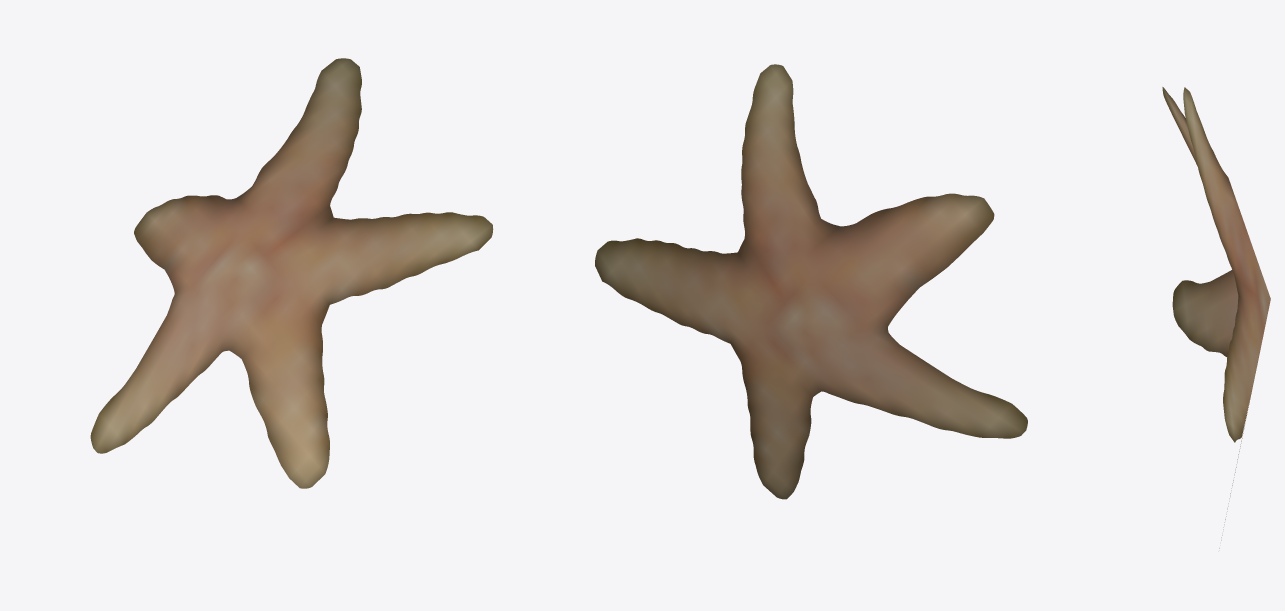
Rendered from SMSH_Starfish_2.FBX.
3 views of the same model, side by side, from view 1: azimuth 30°, elevation 25°; view 2: azimuth 150°, elevation 25°; view 3: azimuth 270°, elevation 25° (orthographic). The views are drawn at different scales.
Parts seen in each view (by area): view 1: Ytlds_Starfish_2; view 2: Ytlds_Starfish_2; view 3: Ytlds_Starfish_2.
Boxes of the visible parts, x1,y1,x2,y2 form: Ytlds_Starfish_2: (90,58,493,488); Ytlds_Starfish_2: (595,64,1027,499); Ytlds_Starfish_2: (1162,87,1270,548).
Bounding box in the file's own units: 69.64 × 69.57 × 12.22.
